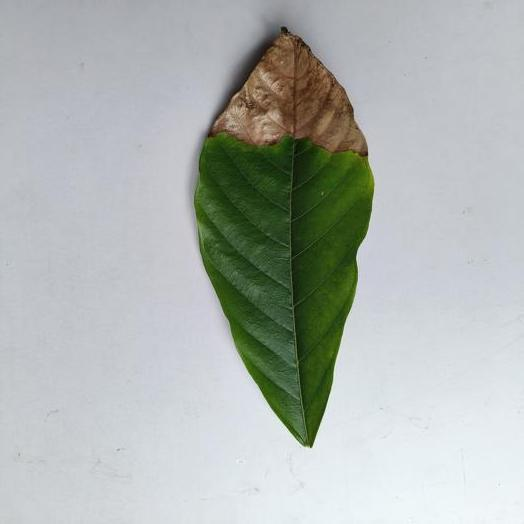Potassium: (195, 28, 373, 446)
